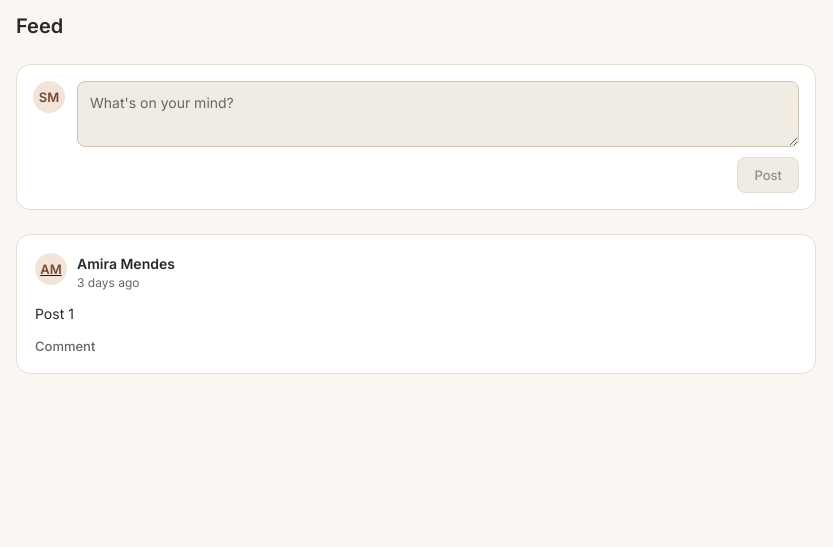
Test: FeedPage › shows a new post before the server answers
The width and height of the screenshot is (833, 547).
Expected: the text "Post 1" is shown, top-left (35, 305), bottom-right (74, 322)
Type "Hello alumni" into the text box named "Write a post" at [438, 114], box top-left (77, 81), bottom-right (799, 147)
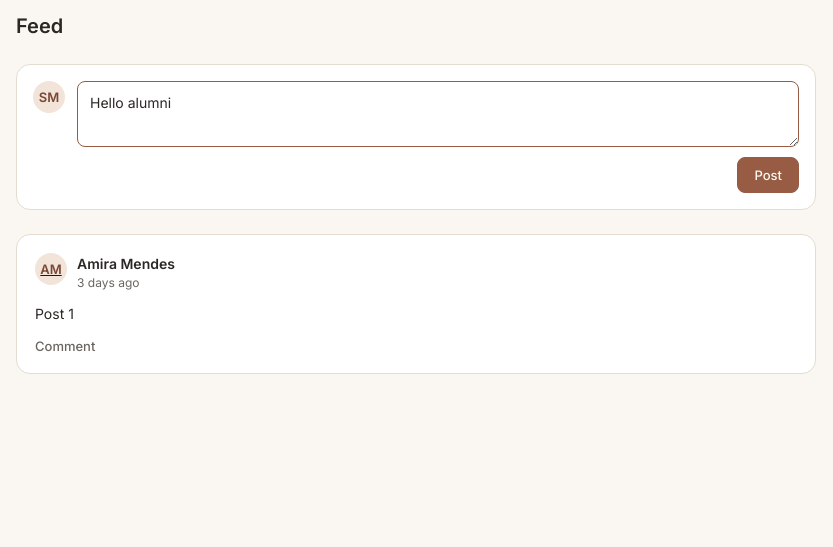
Click the button "Post" at [768, 175], box top-left (738, 157), bottom-right (799, 193)
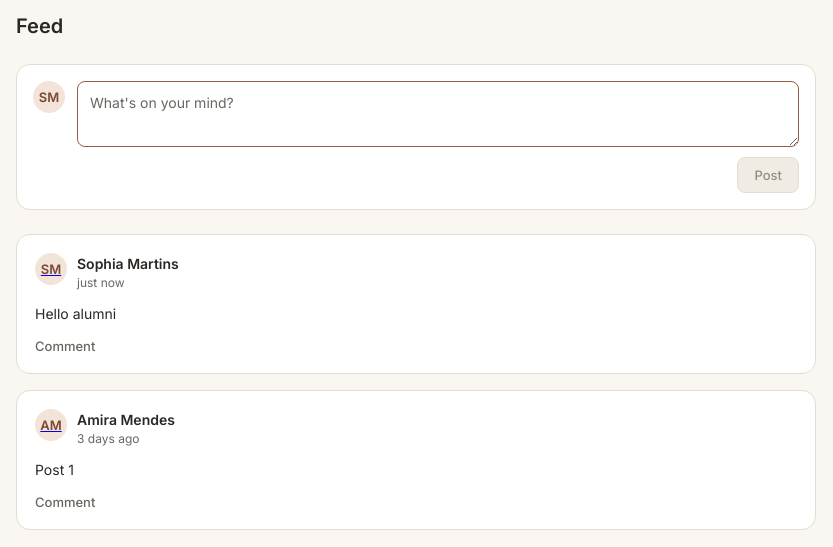
Expected: the text "Hello alumni" is shown, top-left (35, 305), bottom-right (116, 322)
Expected: the link "Sophia Martins" is shown, top-left (77, 253), bottom-right (179, 275)
Expected: the text box named "Write a post" is empty, top-left (77, 81), bottom-right (799, 147)
